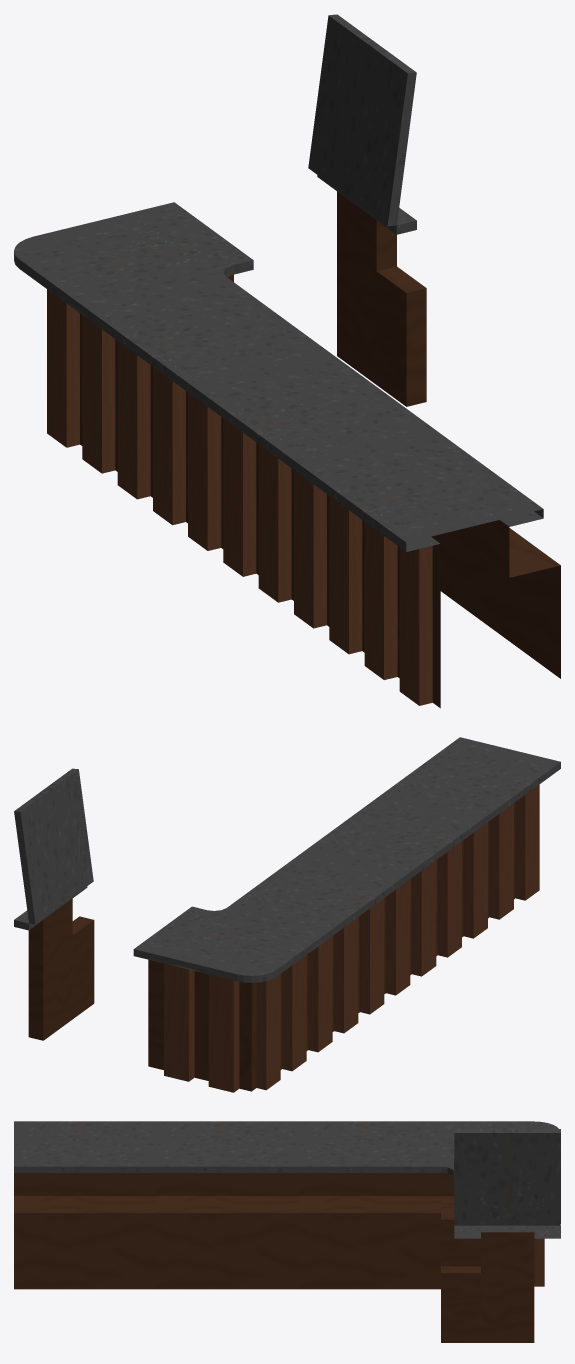
The model's file is Mostrador.fbx.
3 renders of one model, top to bottom at view 1: azimuth 30°, elevation 25°; view 2: azimuth 150°, elevation 25°; view 3: azimuth 270°, elevation 25°, orthographic. The views are drawn at different scales.
Visible parts, largest first — view 1: Mostrador.003; view 2: Mostrador.003; view 3: Mostrador.003.
Boxes of the visible parts, x1,y1,x2,y2 form: Mostrador.003: (14,14,560,708); Mostrador.003: (14,737,560,1092); Mostrador.003: (14,1121,560,1342).
Bounding box in the file's own units: 369 × 337 × 769.
